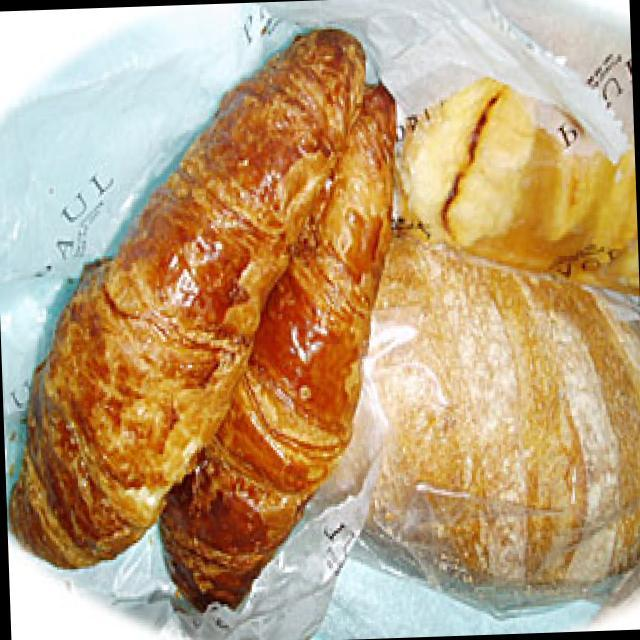Croissant: (0, 33, 389, 587)
